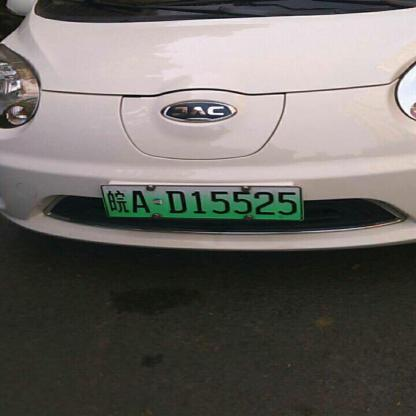lp: (100, 186, 303, 219)
